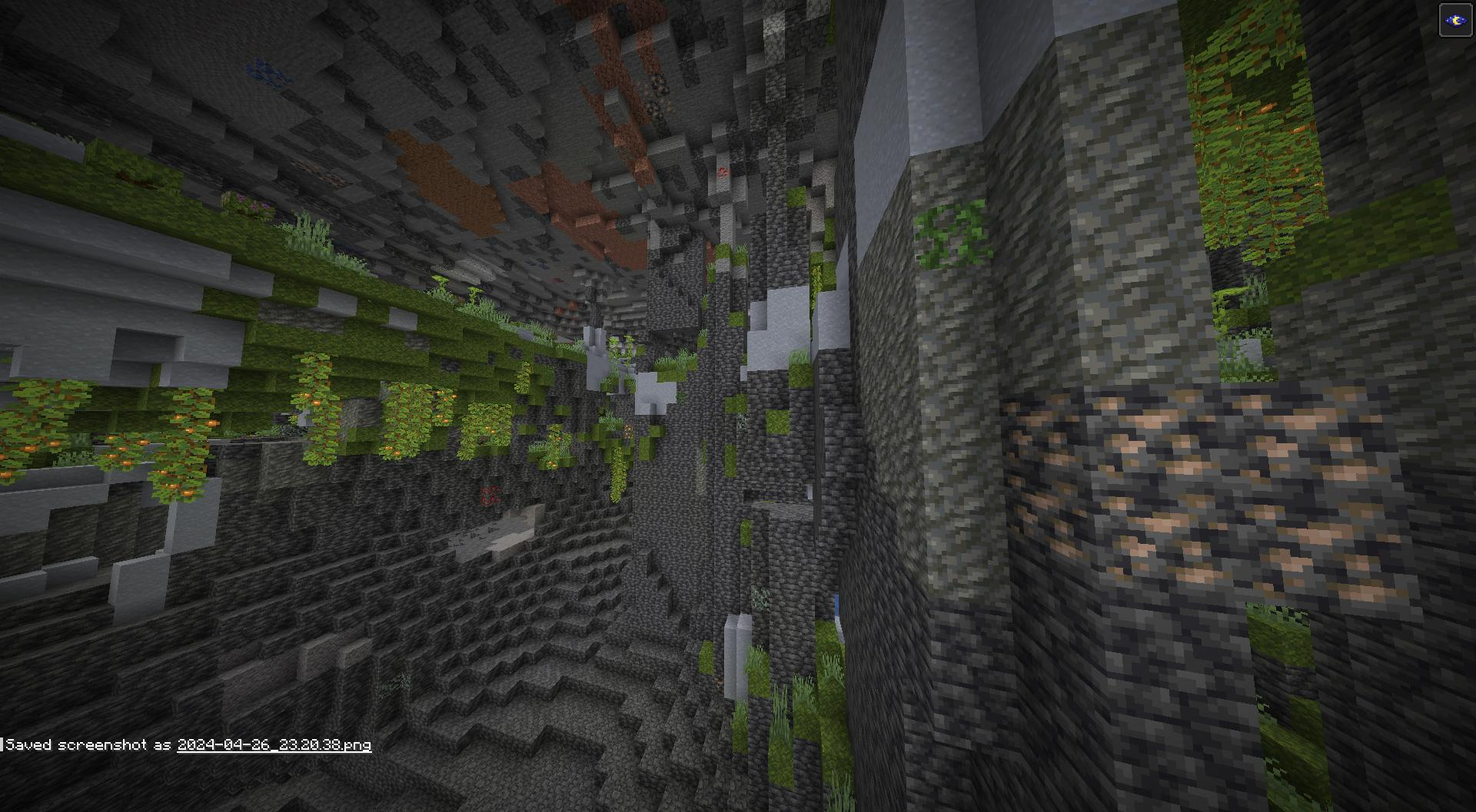iron ore: (1248, 486, 1393, 601), (1221, 390, 1386, 484), (1091, 390, 1223, 486), (1102, 487, 1235, 582), (1004, 387, 1082, 473), (1007, 480, 1088, 555)
redstone ore: (473, 483, 502, 509)
